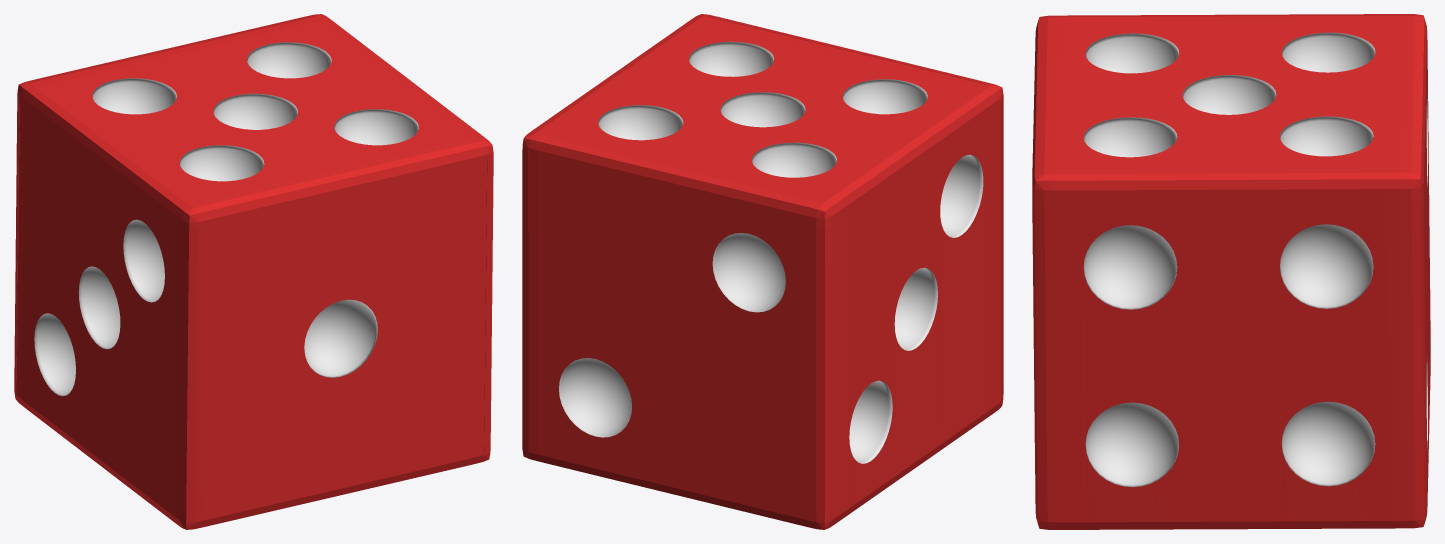
File: dice.dae
3 renders of one model, left to right at view 1: azimuth 30°, elevation 25°; view 2: azimuth 150°, elevation 25°; view 3: azimuth 270°, elevation 25°, orthographic. The views are drawn at different scales.
Visible parts, largest first — view 1: Dado.001; view 2: Dado.001; view 3: Dado.001.
Boxes of the visible parts, <box> form: Dado.001: <box>14,14,493,529</box>; Dado.001: <box>522,14,1003,529</box>; Dado.001: <box>1032,14,1430,529</box>.
Size of the model in its own units: 0.5815 by 0.5836 by 0.5814.
